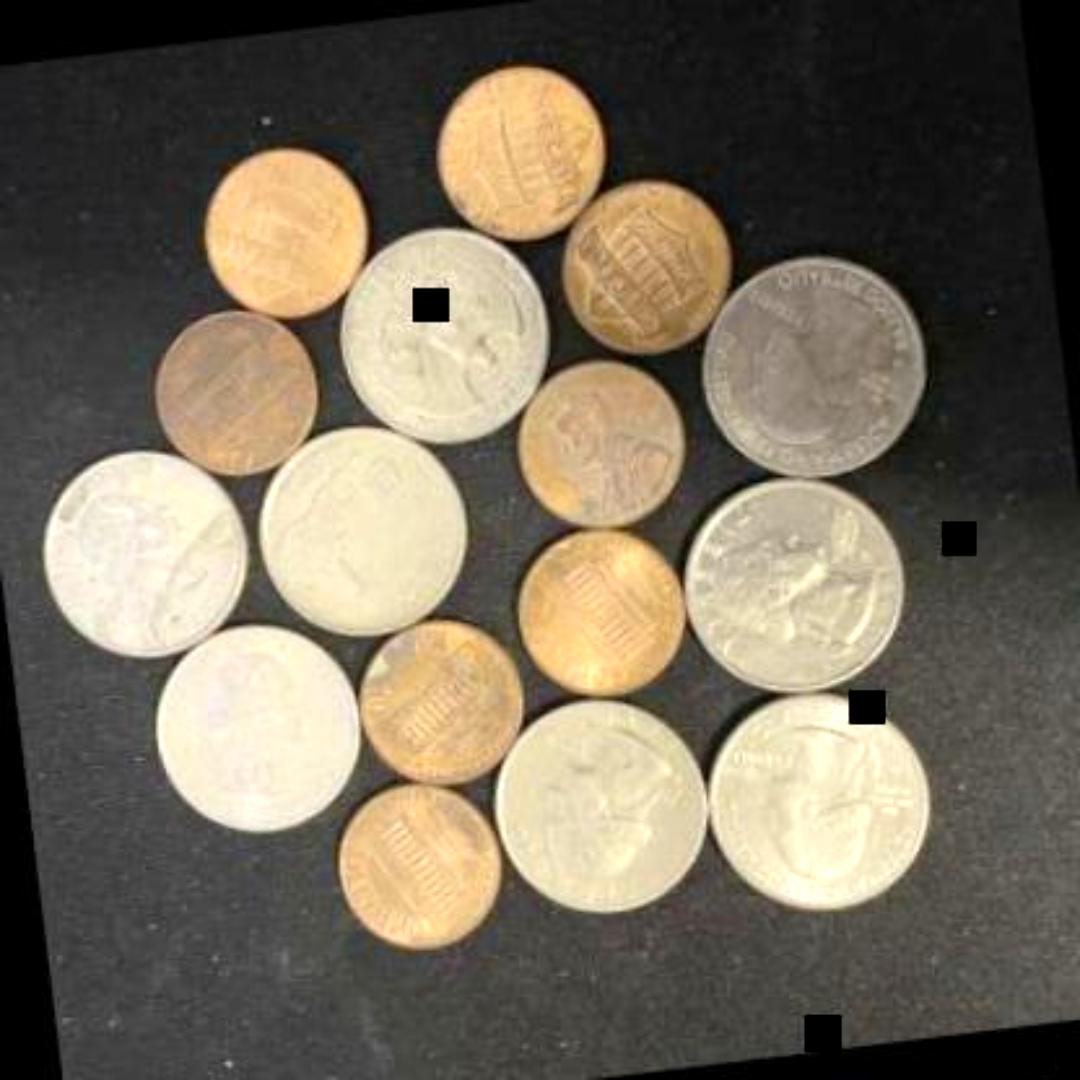Penny: (506, 344, 714, 536), (423, 56, 625, 250), (141, 287, 335, 489), (321, 771, 523, 963), (500, 512, 705, 700), (340, 608, 540, 792), (550, 165, 738, 359), (192, 137, 382, 323)
Quarter: (688, 234, 944, 490), (694, 669, 950, 923), (663, 460, 925, 704), (475, 676, 719, 926), (138, 601, 382, 847), (240, 411, 490, 644), (324, 215, 566, 453), (19, 434, 260, 667)
